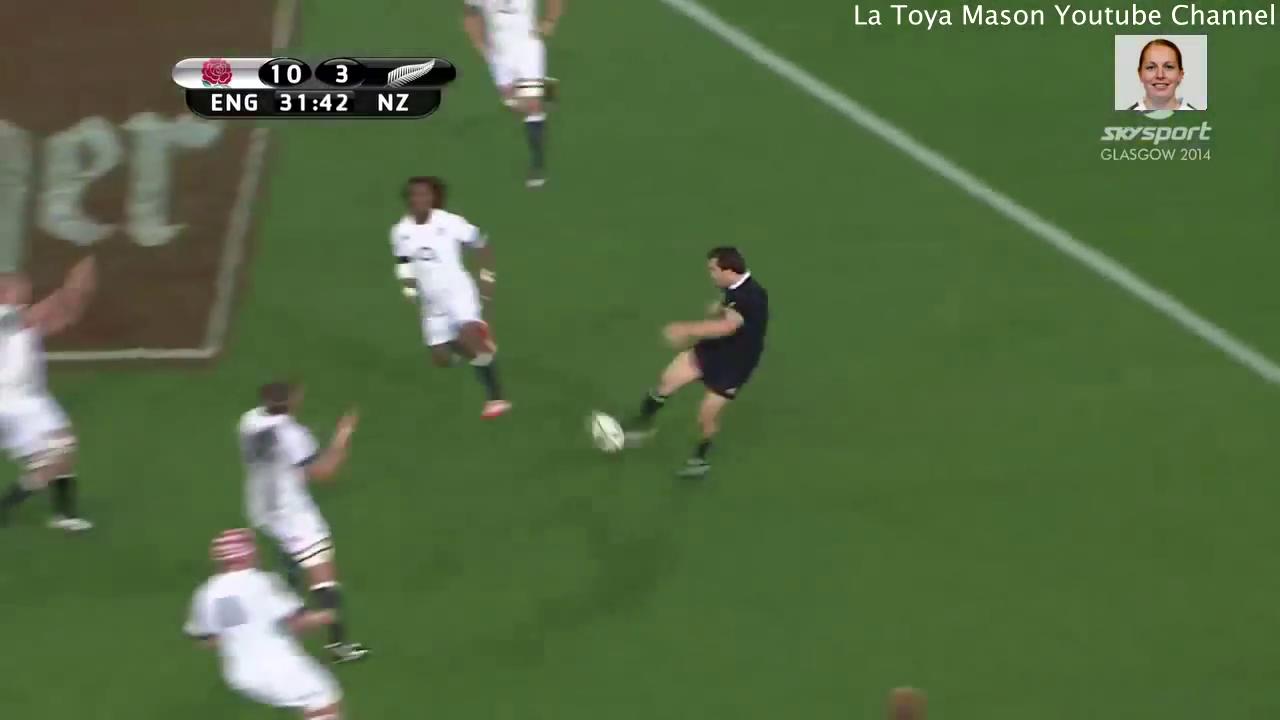ball: (573, 396, 642, 468)
player: (214, 368, 384, 670), (613, 229, 782, 493), (365, 164, 517, 434), (170, 517, 360, 720), (1, 198, 110, 548), (450, 1, 573, 196)
